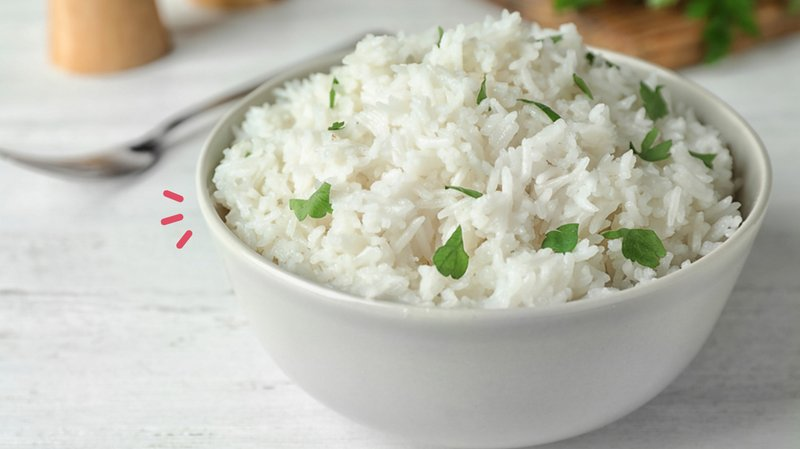Nasi Putih: (171, 12, 765, 360)
